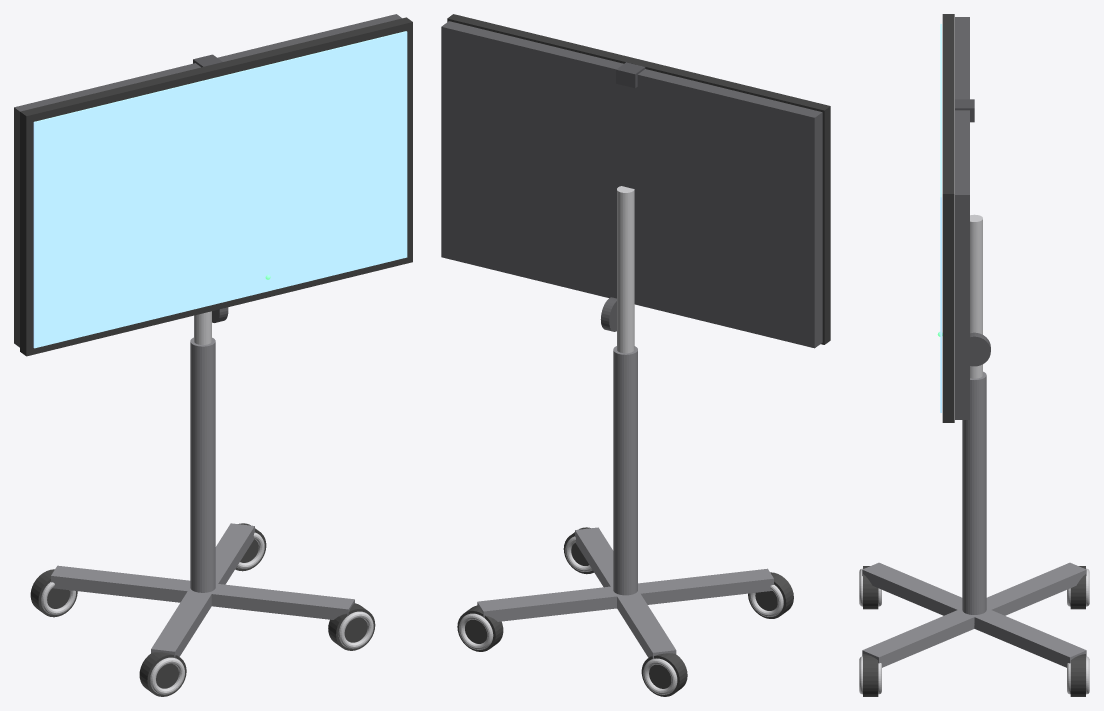
The picture shows the model from 3 angles, left to right: view 1: azimuth 30°, elevation 25°; view 2: azimuth 150°, elevation 25°; view 3: azimuth 270°, elevation 25°; orthographic projection. The views are drawn at different scales.
Parts seen in each view (by area): view 1: TV_Screen, TV_Bezel, Pole_Fixed, Base_Y, TV_Back, Base_X, Caster_BR_Wheel, Caster_BL_Wheel, Caster_FR_Wheel, Caster_BL_Ring, Caster_BR_Ring; view 2: TV_Back, Base_X, Pole_Fixed, TV_Bezel, Base_Y, Pole_Inner, Caster_FR_Wheel, Caster_FL_Wheel, Caster_BR_Wheel, Caster_FR_Ring.001, Caster_FL_Ring.001; view 3: TV_Back, Pole_Fixed, TV_Bezel, Base_Y, Base_X, Pole_Inner, TV_Screen, Caster_FL_Wheel, Caster_BL_Wheel, Pole_Knob, Caster_FR_Wheel, Caster_BR_Wheel.
Boxes of the visible parts, box(x1,y1,x2,y2) form: TV_Screen: box(33, 31, 407, 348); TV_Bezel: box(20, 17, 412, 356); Pole_Fixed: box(190, 337, 215, 592); Base_Y: box(51, 565, 354, 619); TV_Back: box(14, 14, 401, 347); Base_X: box(151, 523, 254, 657); Caster_BR_Wheel: box(139, 652, 186, 696); Caster_BL_Wheel: box(328, 603, 375, 650); Caster_FR_Wheel: box(30, 569, 77, 617); Caster_BL_Ring: box(338, 611, 373, 648); Caster_BR_Ring: box(150, 657, 184, 694); TV_Back: box(441, 21, 822, 348); Base_X: box(477, 568, 773, 621); Pole_Fixed: box(613, 346, 637, 595); TV_Bezel: box(447, 14, 830, 344); Base_Y: box(575, 527, 676, 658); Pole_Inner: box(617, 186, 634, 353); Caster_FR_Wheel: box(641, 653, 687, 696); Caster_FL_Wheel: box(457, 605, 503, 651); Caster_BR_Wheel: box(748, 572, 793, 618); Caster_FR_Ring.001: box(643, 658, 677, 694); Caster_FL_Ring.001: box(459, 613, 493, 649); TV_Back: box(955, 17, 969, 419); Pole_Fixed: box(962, 371, 986, 614); TV_Bezel: box(942, 14, 954, 422); Base_Y: box(862, 562, 1086, 667); Base_X: box(862, 562, 1086, 667); Pole_Inner: box(970, 214, 982, 378); TV_Screen: box(940, 24, 941, 412); Caster_FL_Wheel: box(1070, 654, 1085, 696); Caster_BL_Wheel: box(863, 654, 878, 696); Pole_Knob: box(970, 332, 990, 366); Caster_FR_Wheel: box(1070, 566, 1085, 609); Caster_BR_Wheel: box(863, 566, 878, 609).
Bounding box in the file's own units: 0.985 × 1.4 × 0.5328.
